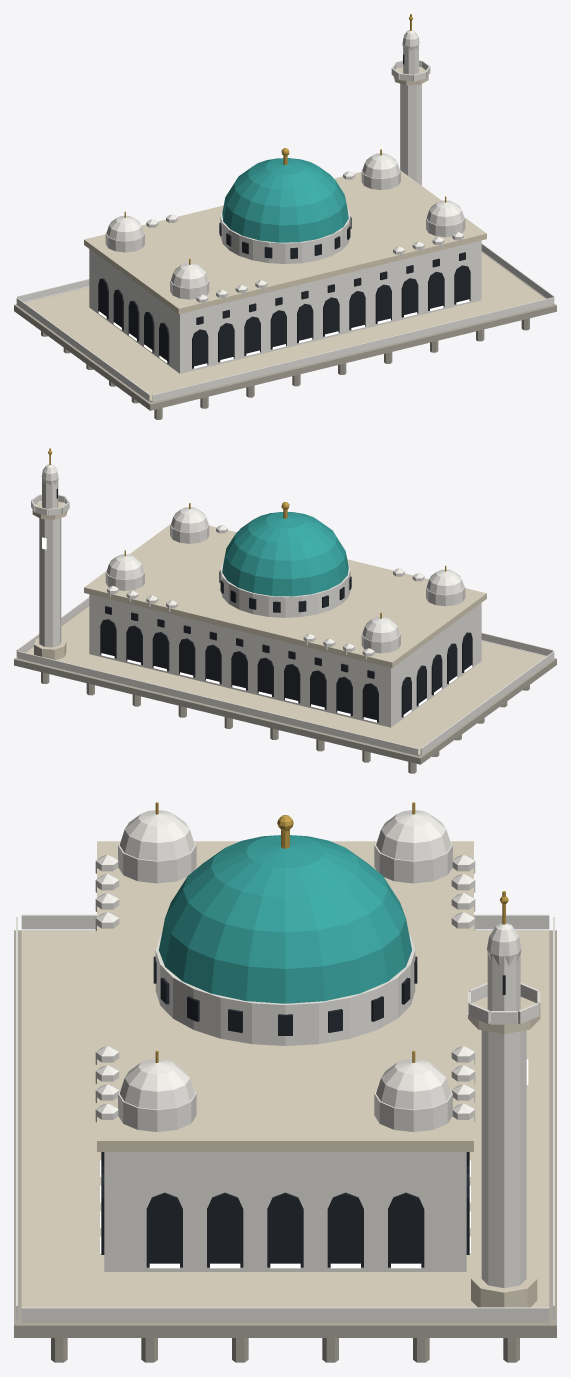
Rendered from mezquita-rahma.glb.
The picture shows the model from 3 angles, top to bottom: view 1: azimuth 30°, elevation 25°; view 2: azimuth 150°, elevation 25°; view 3: azimuth 270°, elevation 25°; orthographic projection. The views are drawn at different scales.
Parts seen in each view (by area): view 1: mezquita-rahma; view 2: mezquita-rahma; view 3: mezquita-rahma.
Part boxes in pixels (x1,y1,x2,y2): mezquita-rahma: (14, 14, 556, 419); mezquita-rahma: (14, 448, 556, 773); mezquita-rahma: (14, 802, 556, 1362).
Bounding box in the file's own units: 62 × 34 × 36.
